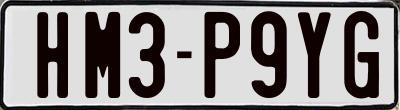3: (128, 11, 166, 101)
9: (249, 11, 288, 103)
G: (341, 8, 382, 101)
H: (35, 10, 66, 100)
M: (83, 12, 119, 104)
P: (202, 11, 238, 102)
Y: (298, 10, 331, 96)
